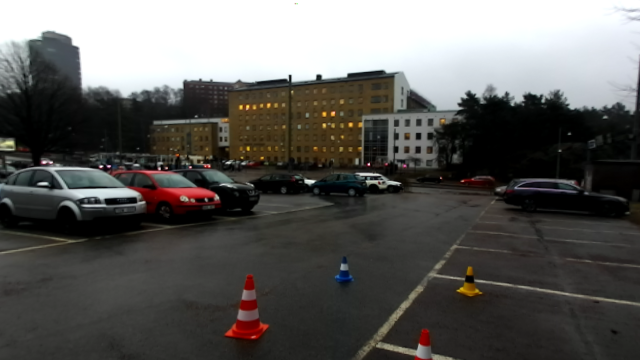blue: (333, 256, 354, 284)
orange2: (222, 275, 270, 340)
yellow: (456, 263, 483, 298)
